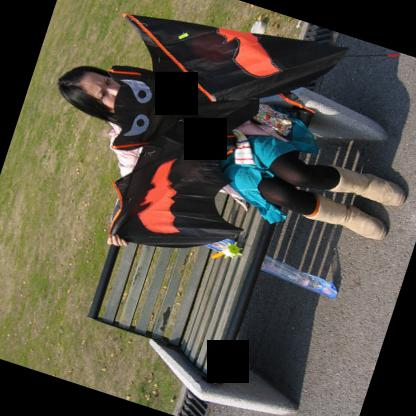handbag: (253, 102, 292, 136)
